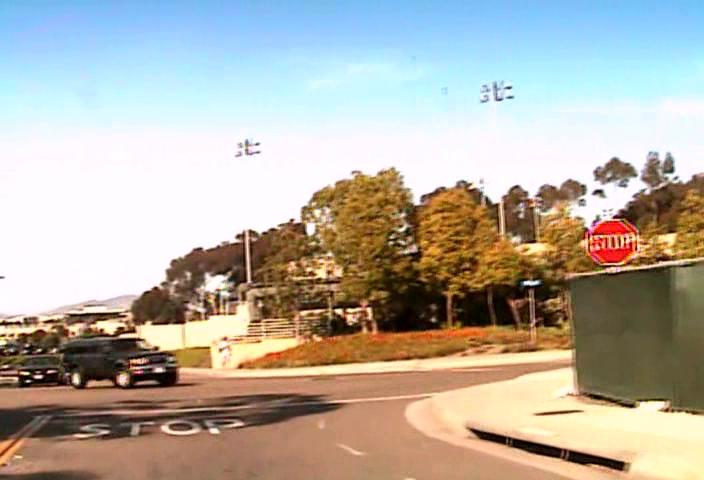stop: (586, 218, 637, 264)
